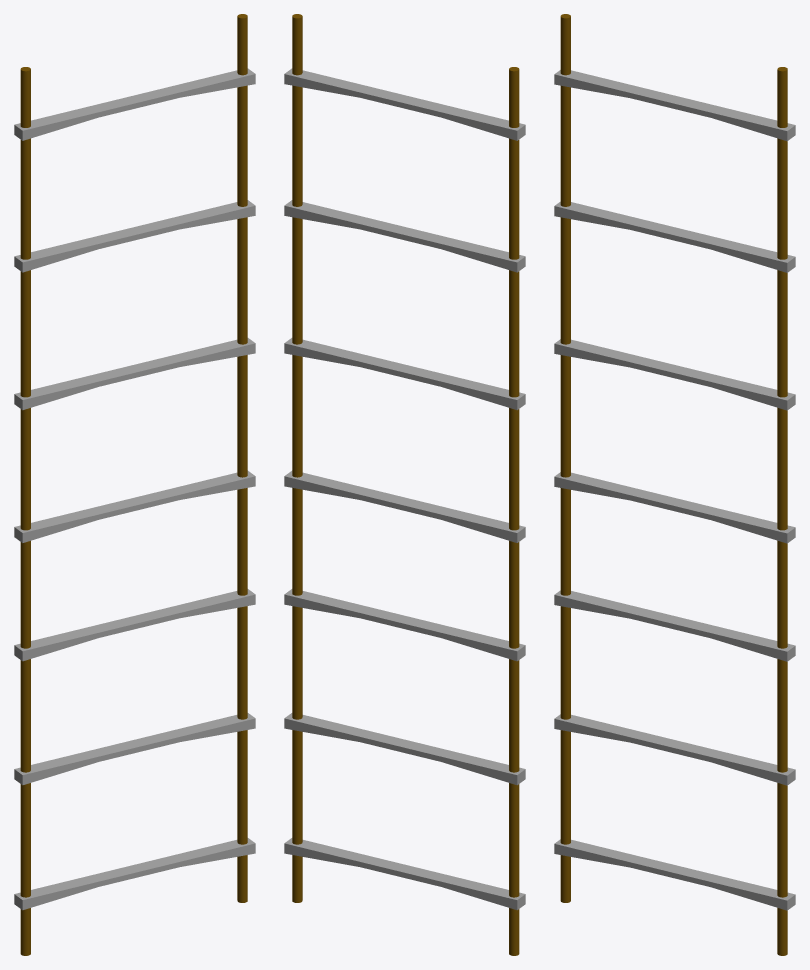
The model's file is Rope_ladder.fbx.
3 renders of one model, left to right at view 1: azimuth 30°, elevation 25°; view 2: azimuth 150°, elevation 25°; view 3: azimuth 330°, elevation 25°, orthographic.
Parts seen in each view (by area): view 1: Rope_Ladder_Step003; view 2: Rope_Ladder_Step003; view 3: Rope_Ladder_Step003.
Boxes of the visible parts, left/top/right/bottom form: Rope_Ladder_Step003: left=14, top=14, right=255, bottom=955; Rope_Ladder_Step003: left=284, top=14, right=525, bottom=955; Rope_Ladder_Step003: left=554, top=14, right=795, bottom=955.
Size of the model in its own units: 48.01 by 174 by 3.
